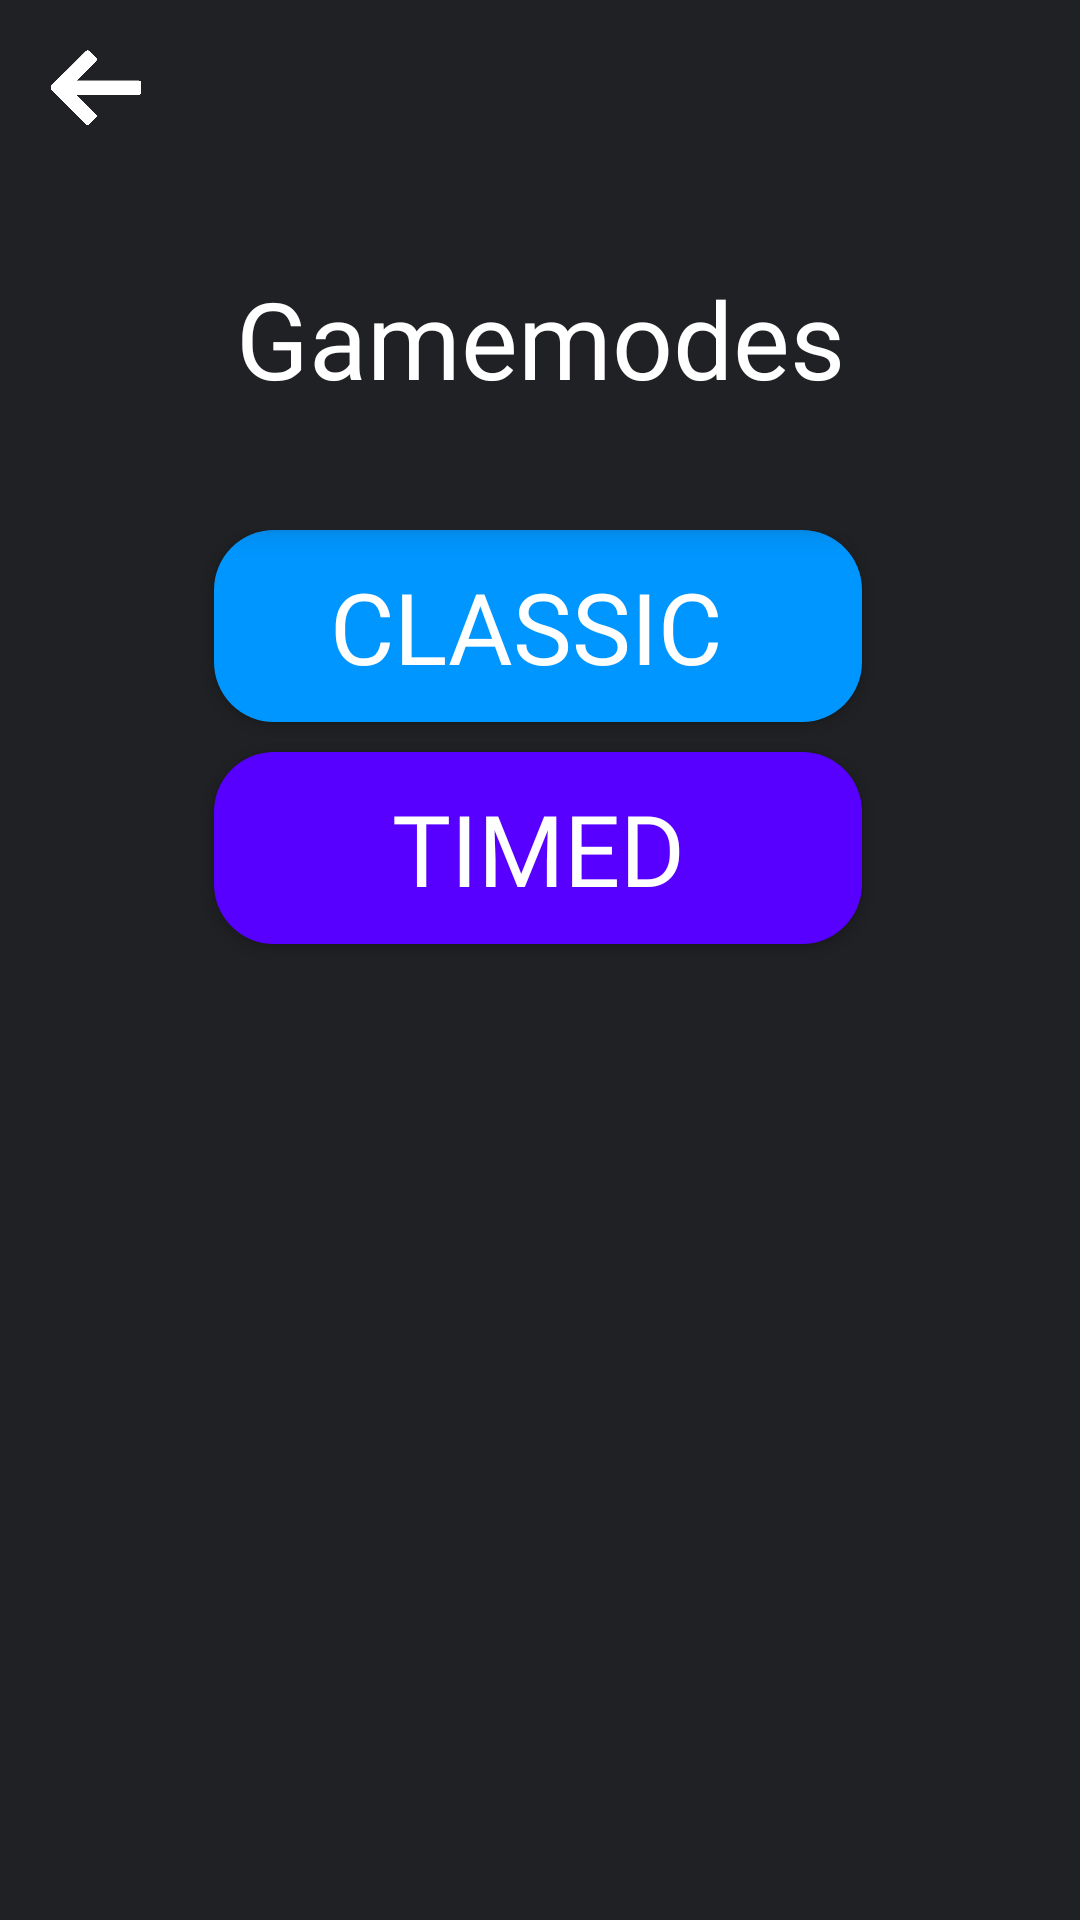

Named icons in this screenshot (1080*1920) and their bounding boxes, region(x1, y1, x2, y2):
arrow: region(51, 50, 141, 125)
